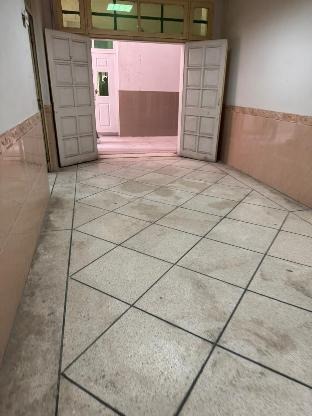door: (43, 22, 235, 170)
